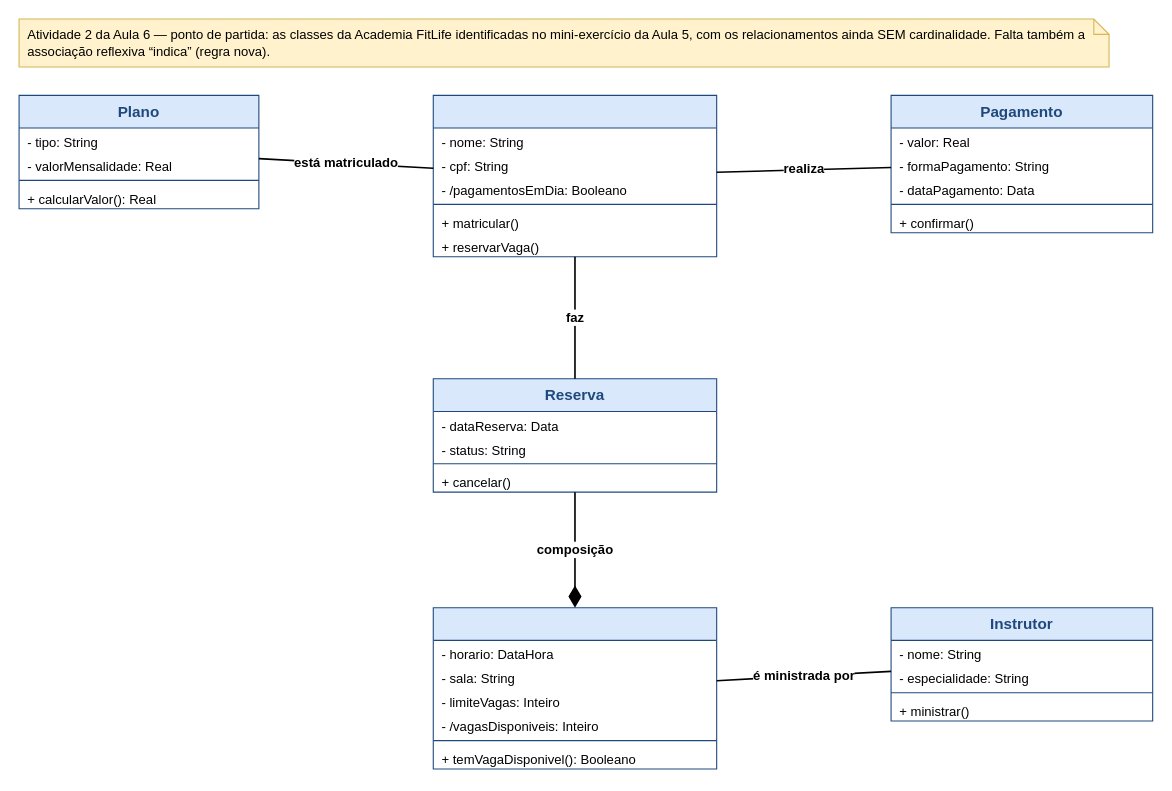
Some shapes in this 1172 by 791 pixel diagram are drawn without their labels. Here are the shapes that lost their labels. From the top down, the box of each, then its label:
(432, 94, 717, 257): Aluno
(432, 607, 717, 769): Aula
